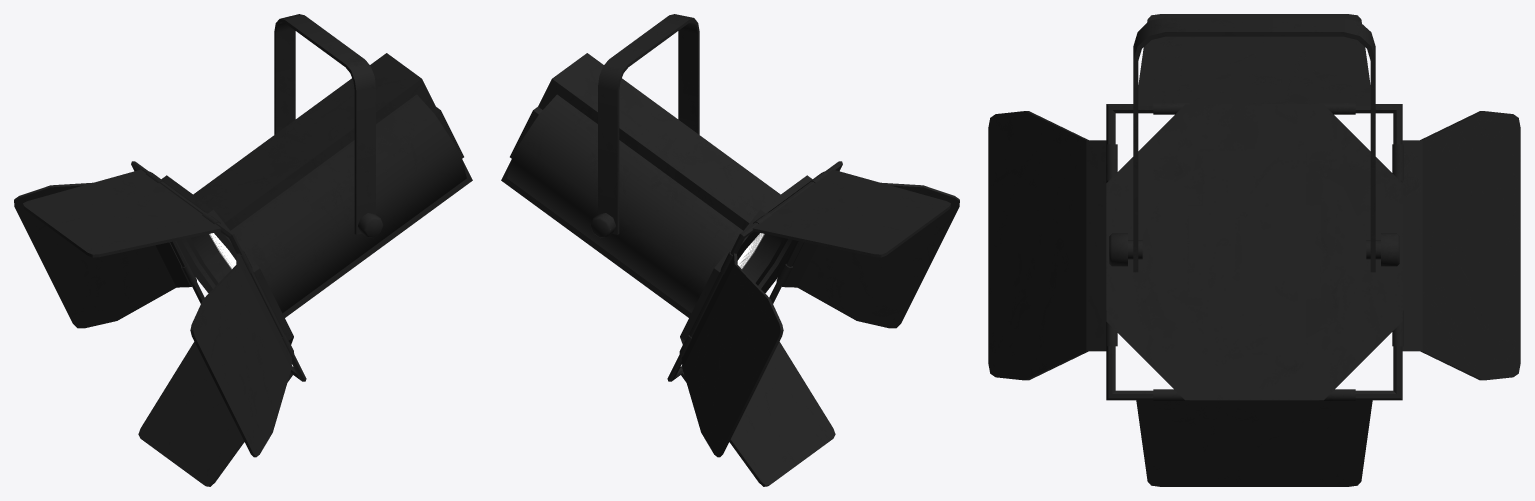
File: SM_StageLight_01.fbx
3 renders of one model, left to right at view 1: azimuth 30°, elevation 25°; view 2: azimuth 150°, elevation 25°; view 3: azimuth 270°, elevation 25°, orthographic. The views are drawn at different scales.
Parts seen in each view (by area): view 1: SM_StageLight_01_LOD0; view 2: SM_StageLight_01_LOD0; view 3: SM_StageLight_01_LOD0.
Part boxes in pixels (left/top/right/bottom): SM_StageLight_01_LOD0: left=14, top=14, right=472, bottom=486; SM_StageLight_01_LOD0: left=501, top=14, right=959, bottom=486; SM_StageLight_01_LOD0: left=988, top=14, right=1520, bottom=486.
Bounding box in the file's own units: 68.97 × 53.9 × 63.78.
Materials: 1 (1 with a texture image).
